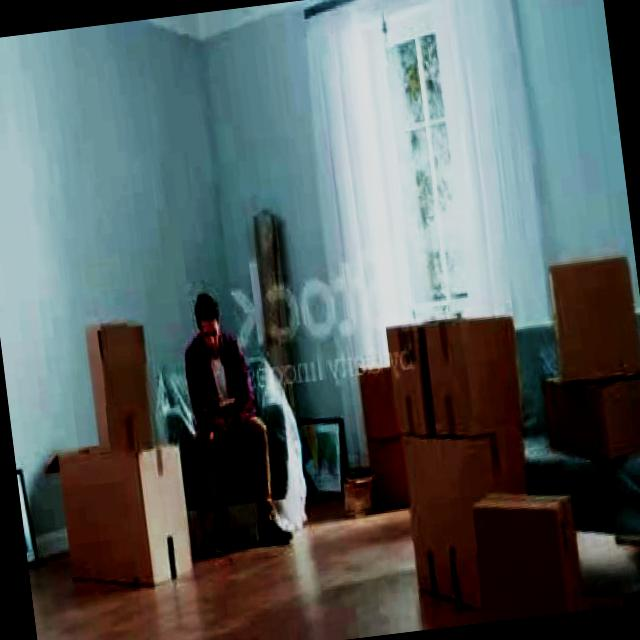Box: (392, 430, 508, 593), (54, 448, 190, 582), (469, 485, 581, 615), (541, 248, 640, 377), (421, 308, 520, 431), (546, 375, 640, 460), (93, 335, 156, 442), (384, 329, 434, 423)
